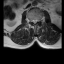CCS_normal: (34, 17, 36, 25)
LFS_stenosis: (38, 17, 40, 23)
LLS_normal: (36, 18, 38, 24)
RFS_stenosis: (29, 18, 31, 24)
RLS_normal: (31, 17, 34, 24)
